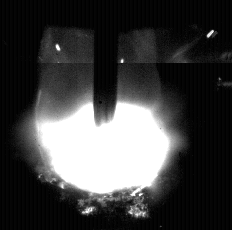arame: (94, 0, 119, 126)
poca: (34, 0, 166, 230)
